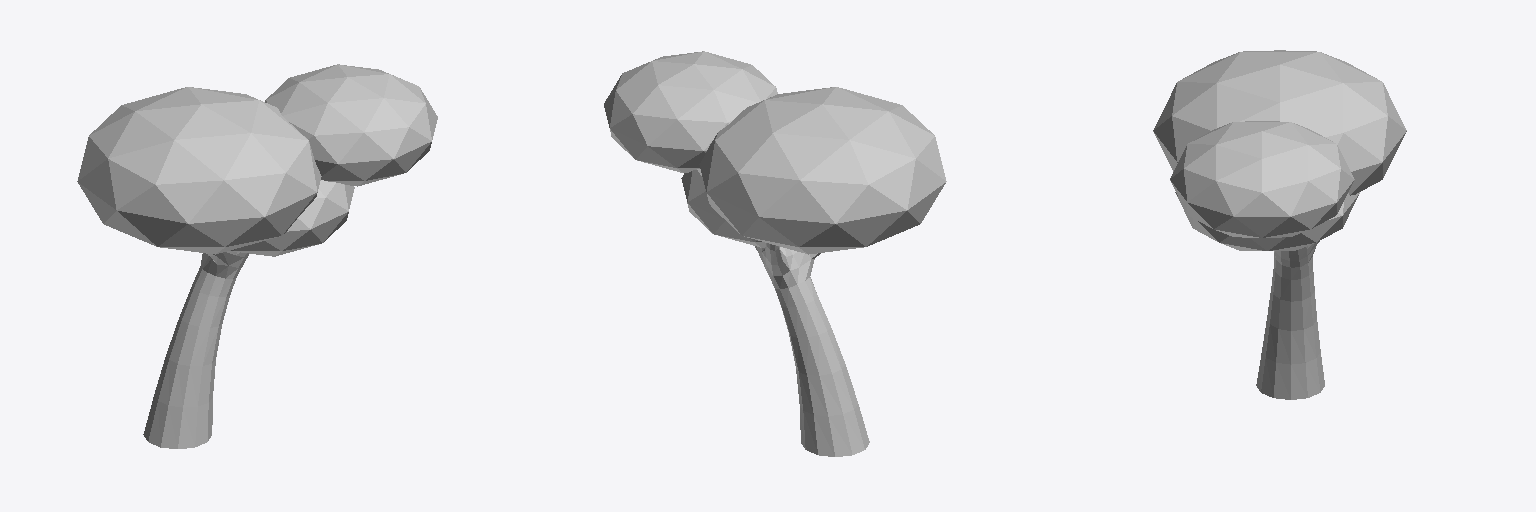
File: tree 1.obj
The picture shows the model from 3 angles: view 1: azimuth 30°, elevation 25°; view 2: azimuth 150°, elevation 25°; view 3: azimuth 270°, elevation 25°; orthographic projection.
Parts seen in each view (by area): view 1: Cylinder; view 2: Cylinder; view 3: Cylinder.
Boxes of the visible parts, x1=… form: Cylinder: x1=77, y1=64, x2=437, y2=448; Cylinder: x1=604, y1=51, x2=946, y2=456; Cylinder: x1=1153, y1=50, x2=1406, y2=399.
Size of the model in its own units: 8.88 by 8.81 by 6.14.